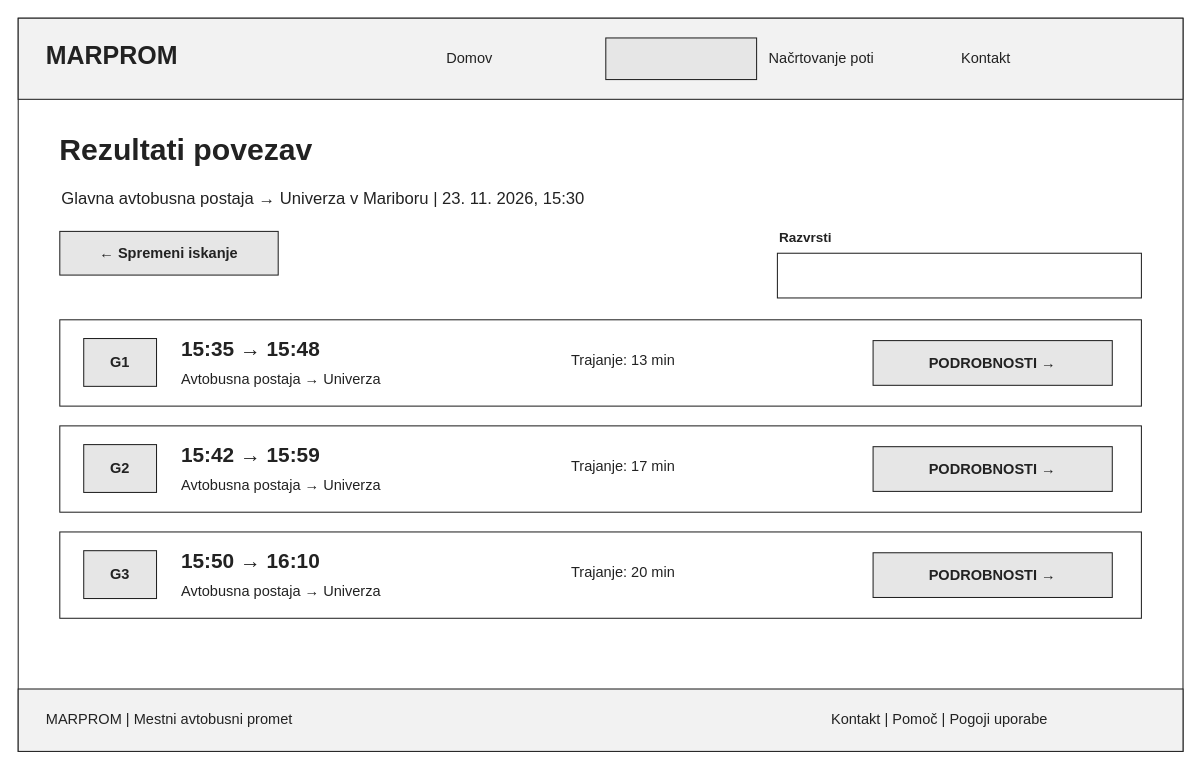
Image size: 1201x770. Some labels were removed from this diagram. The shapes that lost their labels are listed below. From the top down, each one's centre as x and y in pixels, then its label:
At point 681,58: "Vozni red".
At point 958,275: "Najhitrejša povezava ▾".
